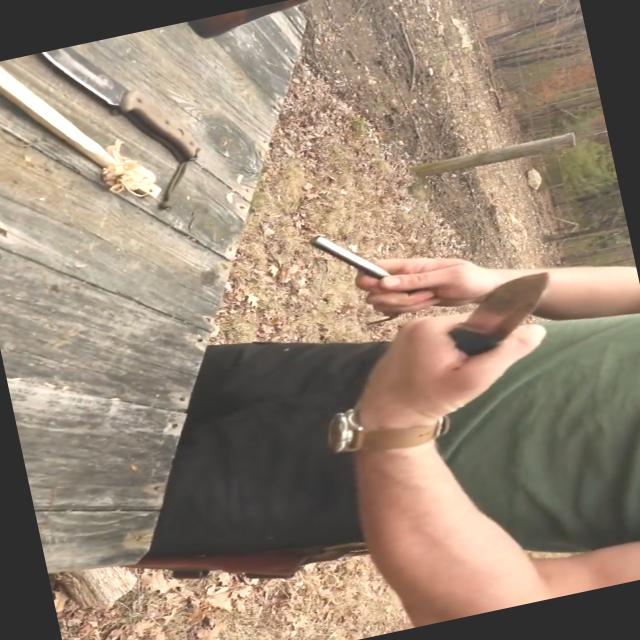knife: (375, 262, 586, 400)
